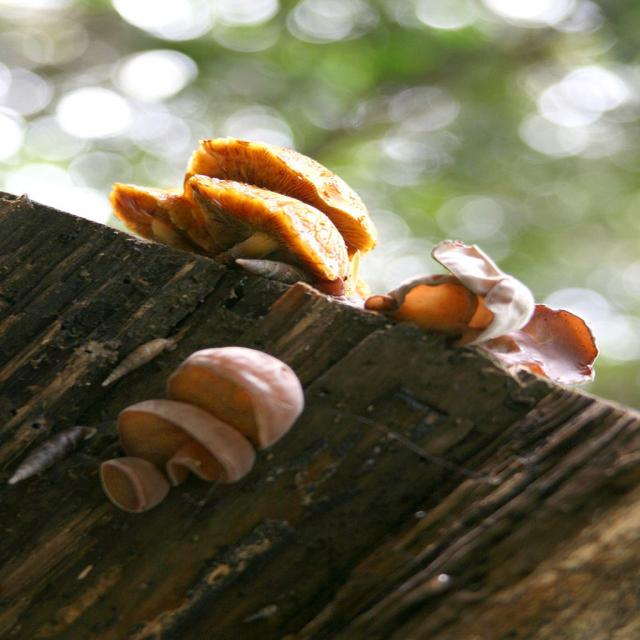mushroom: (111, 134, 379, 308), (353, 238, 598, 385), (100, 345, 305, 515)
